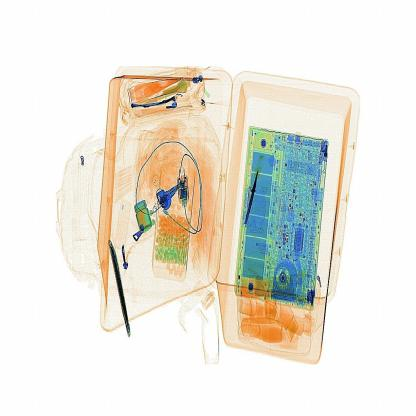gun: (242, 136, 273, 232)
